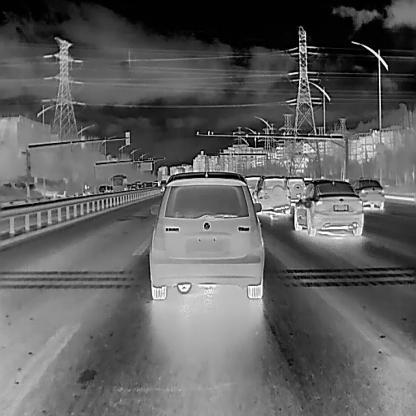car: (148, 169, 263, 299), (293, 178, 364, 237), (251, 175, 290, 215), (353, 175, 384, 209), (286, 176, 307, 203), (110, 173, 128, 193), (129, 182, 138, 193), (142, 181, 153, 190), (14, 181, 26, 189), (97, 184, 105, 194), (159, 179, 167, 188), (137, 183, 144, 190), (106, 186, 112, 194), (26, 183, 35, 188)
